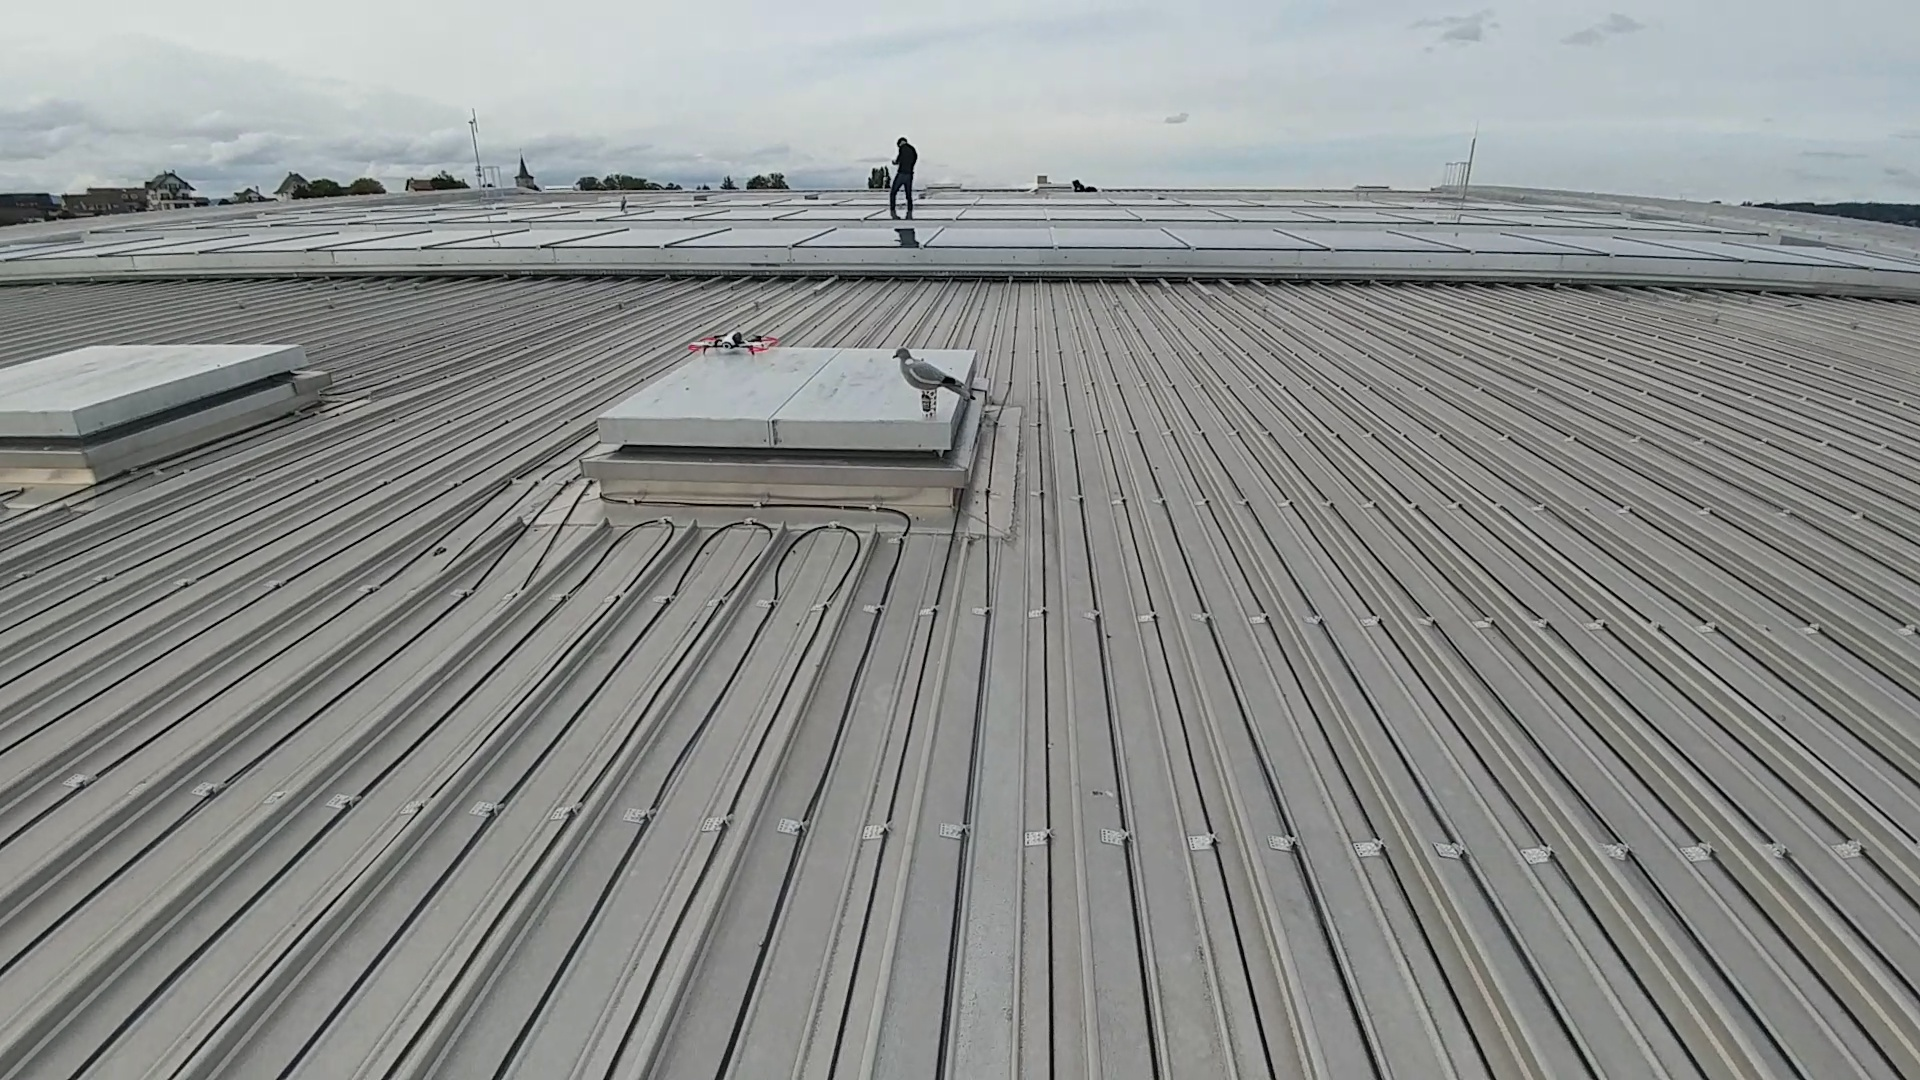Pigeon: (885, 339, 1002, 392)
